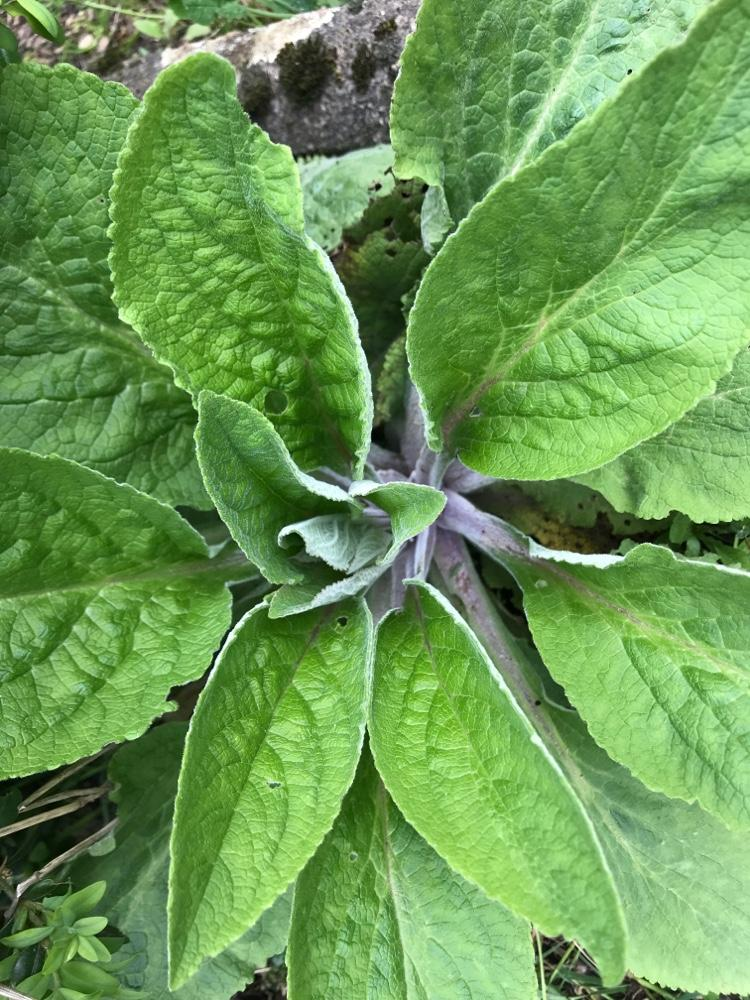Digitalis L: (1, 15, 750, 988)
